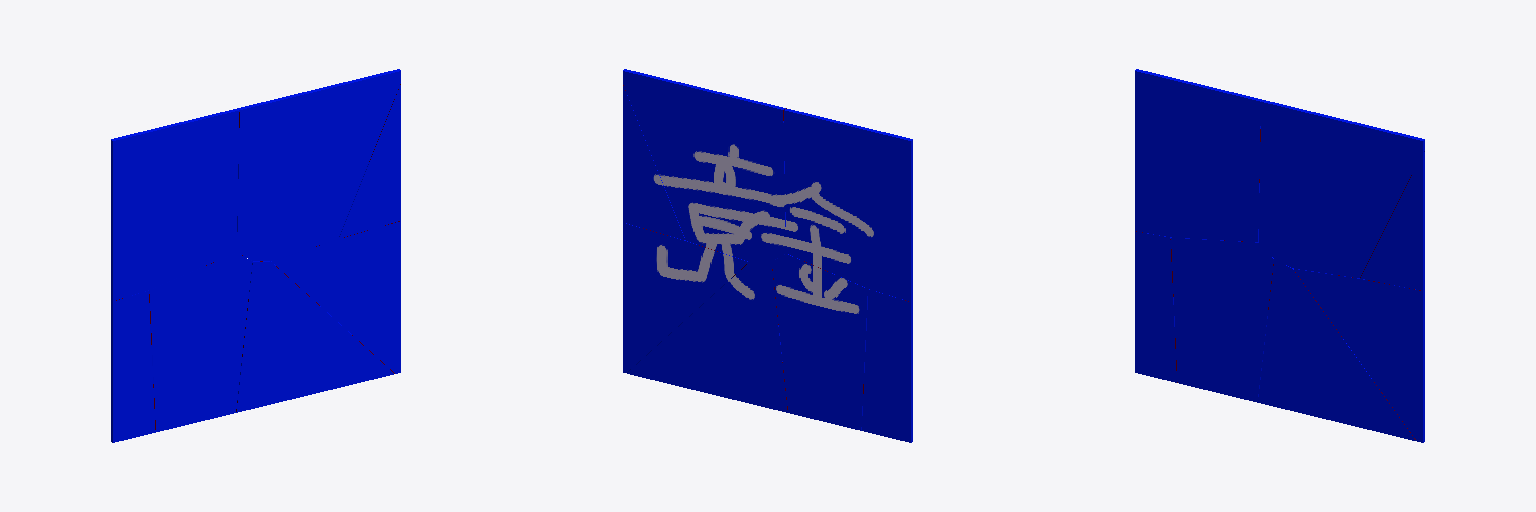
3 views of the same model, side by side, from view 1: azimuth 30°, elevation 25°; view 2: azimuth 150°, elevation 25°; view 3: azimuth 330°, elevation 25° (orthographic).
Parts seen in each view (by area): view 1: Cube_cell.004, Cube_cell.002, Cube_cell.001, Cube_cell.003, Cube_cell.005, Cube_cell, Cube_cell.006; view 2: Cube_cell.004, Cube_cell.002, Cube_cell.003, Cube_cell.001, Cube_cell.005, Cube_cell, Cube_cell.006; view 3: Cube_cell.004, Cube_cell.002, Cube_cell.001, Cube_cell.003, Cube_cell.005, Cube_cell, Cube_cell.006.
Part boxes in pixels (x1,y1,x2,y2): Cube_cell.004: (237,69,400,261); Cube_cell.002: (111,108,239,300); Cube_cell.001: (150,253,252,431); Cube_cell.003: (236,261,394,412); Cube_cell.005: (272,221,400,373); Cube_cell: (111,290,155,442); Cube_cell.006: (339,84,400,238); Cube_cell.004: (623,69,786,261); Cube_cell.002: (784,109,912,301); Cube_cell.003: (627,262,787,412); Cube_cell.001: (772,254,867,430); Cube_cell.005: (623,223,748,372); Cube_cell: (862,289,912,442); Cube_cell.006: (623,85,685,240); Cube_cell.004: (1259,100,1424,277); Cube_cell.002: (1135,69,1263,241); Cube_cell.001: (1171,238,1273,402); Cube_cell.003: (1258,259,1415,440); Cube_cell.005: (1294,269,1424,442); Cube_cell: (1135,231,1177,382); Cube_cell.006: (1360,152,1424,290).
Size of the model in its own units: 2 by 2 by 0.0307.
1 materials, 1 textured.